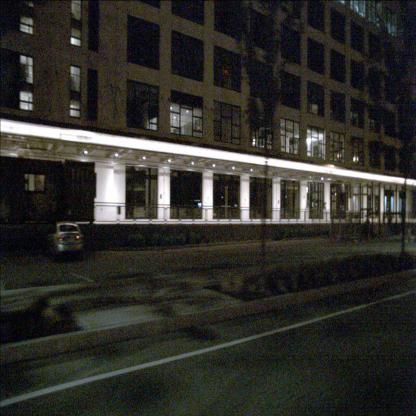vehicle-car: (42, 223, 84, 261)
